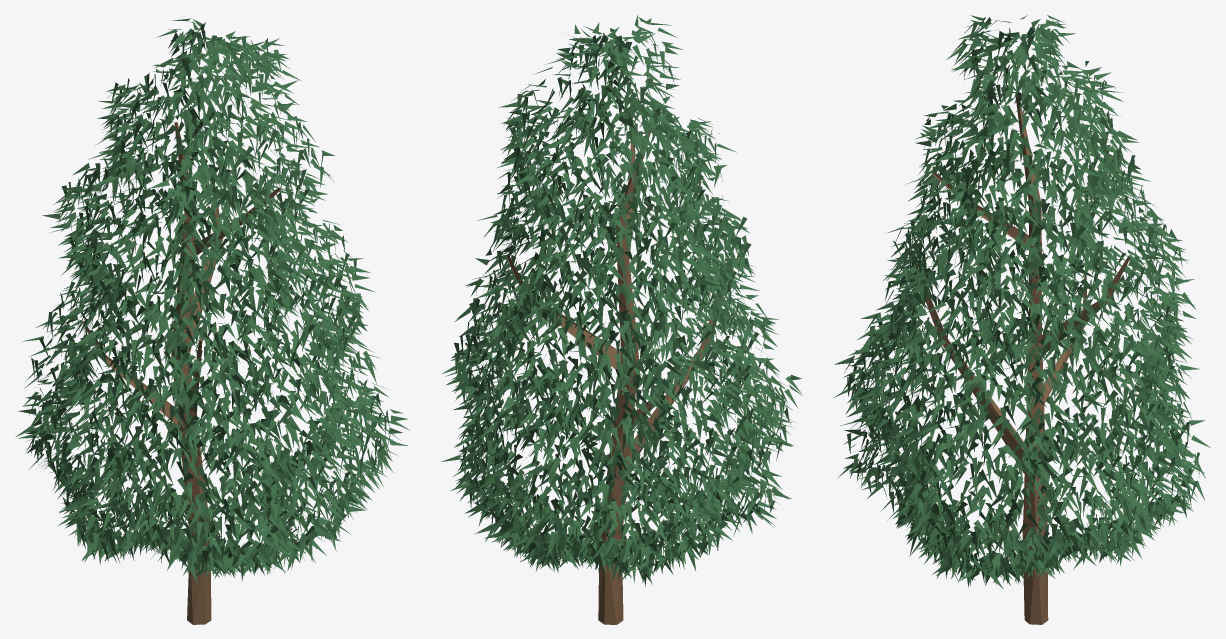
Rendered from tree-spruce-1-1.glb.
The picture shows the model from 3 angles, left to right: view 1: azimuth 30°, elevation 25°; view 2: azimuth 150°, elevation 25°; view 3: azimuth 270°, elevation 25°; orthographic projection. The views are drawn at different scales.
Parts seen in each view (by area): view 1: tree/spruce@1/1; view 2: tree/spruce@1/1; view 3: tree/spruce@1/1.
Part boxes in pixels (x1,y1,x2,y2): tree/spruce@1/1: (16,18,410,624); tree/spruce@1/1: (441,15,802,624); tree/spruce@1/1: (833,15,1210,624).
Size of the model in its own units: 2388 by 4205 by 2412.
